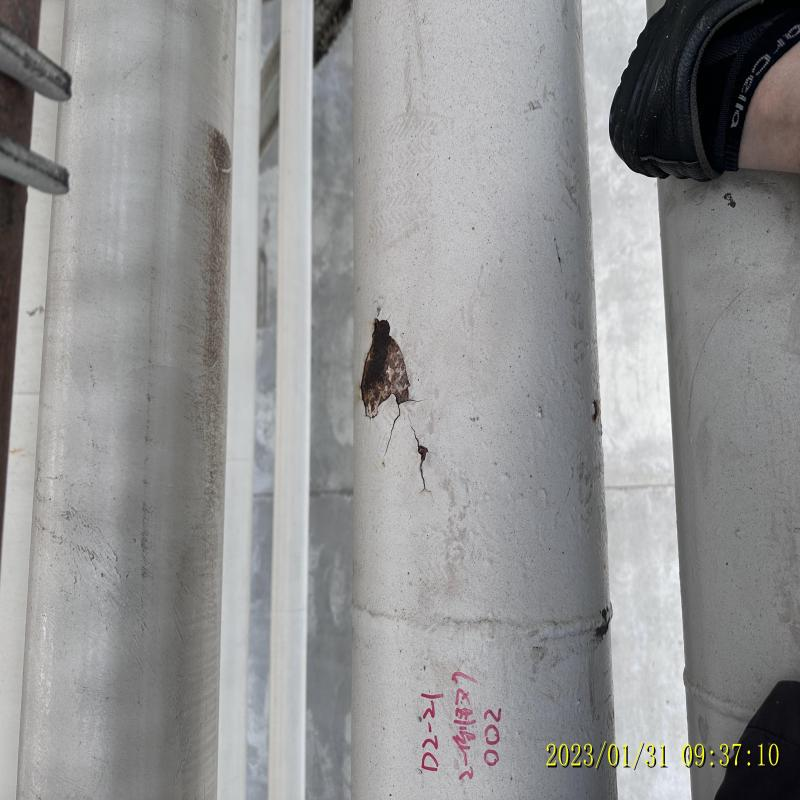corrosion: (365, 312, 405, 413)
